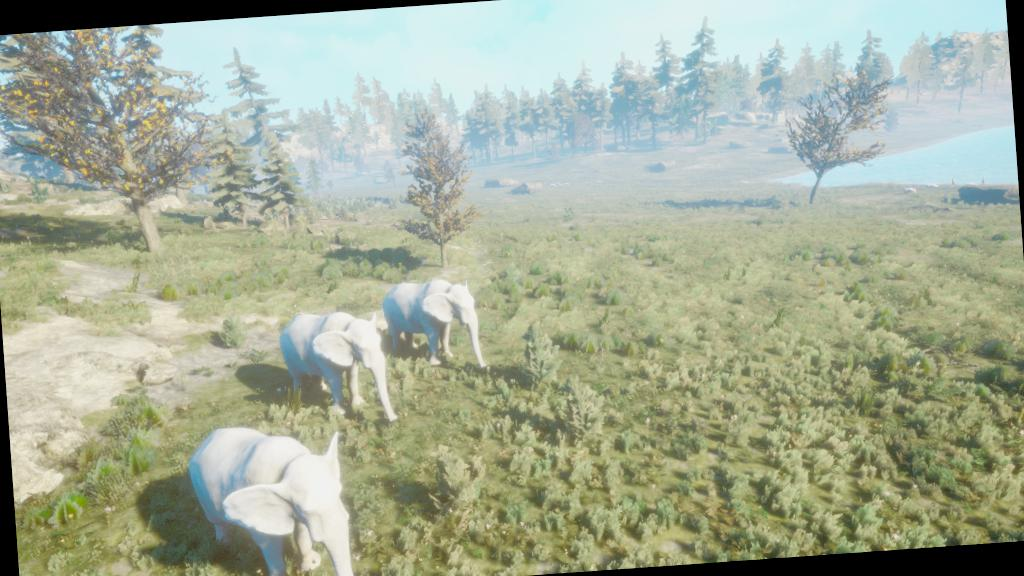elephant: (175, 409, 380, 575), (259, 290, 401, 440), (382, 265, 494, 376)
